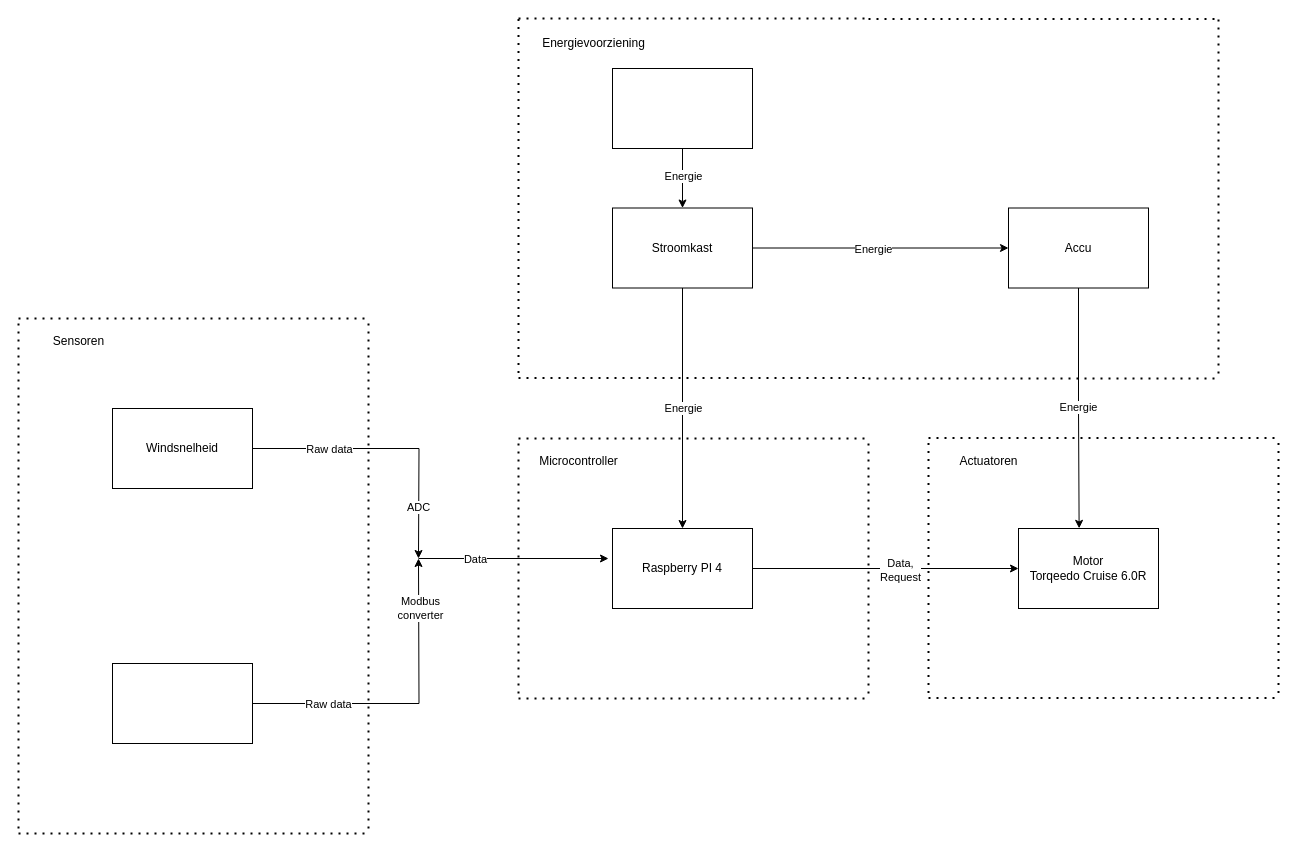
Some shapes in this 1297 by 852 pixel diagram are drawn without their labels. The shapes that lost their labels are listed below. From the top down, each one's centre as x and y in pixels, then its label:
(682,108): Zonnepanelen
(182,703): Windrichring
